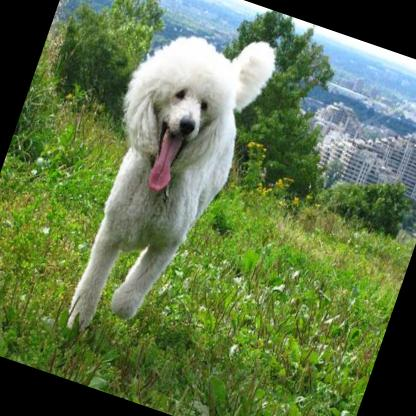standard_poodle: (44, 3, 280, 368)
